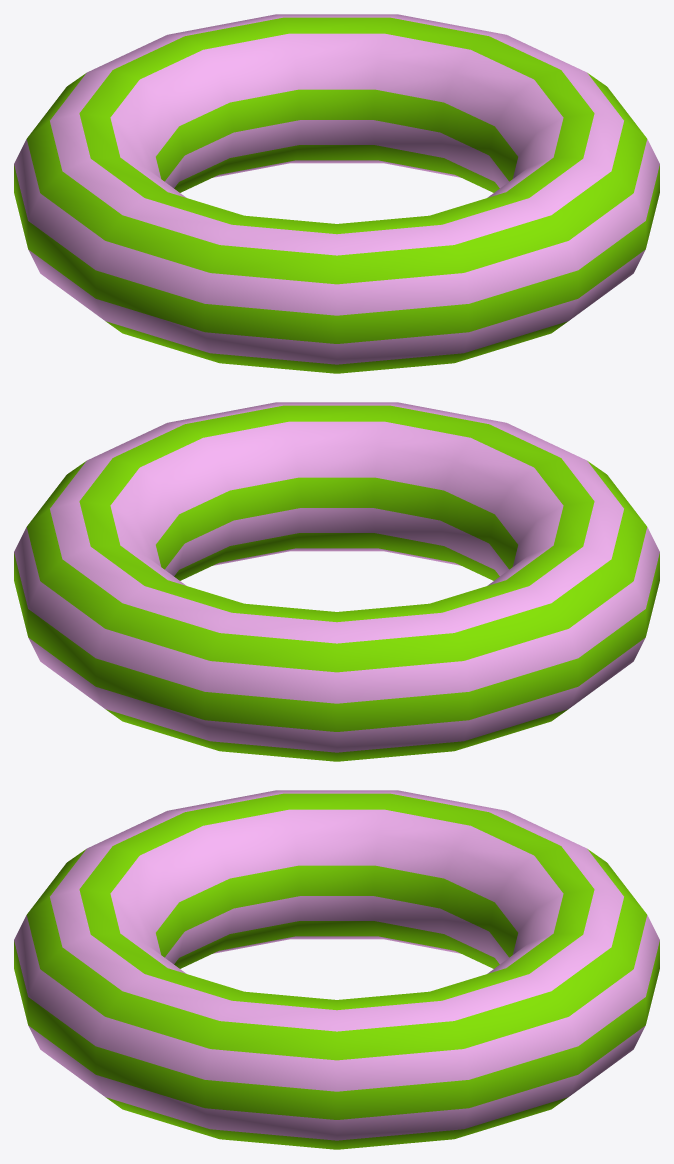
Rendered from guma2.fbx.
The picture shows the model from 3 angles, top to bottom: view 1: azimuth 30°, elevation 25°; view 2: azimuth 150°, elevation 25°; view 3: azimuth 270°, elevation 25°; orthographic projection.
Parts seen in each view (by area): view 1: GumaZaPlivanje; view 2: GumaZaPlivanje; view 3: GumaZaPlivanje.
Boxes of the visible parts, x1,y1,x2,y2 form: GumaZaPlivanje: [14, 14, 659, 373]; GumaZaPlivanje: [14, 402, 659, 761]; GumaZaPlivanje: [14, 790, 659, 1149].
Bounding box in the file's own units: 131 × 30.58 × 132.
